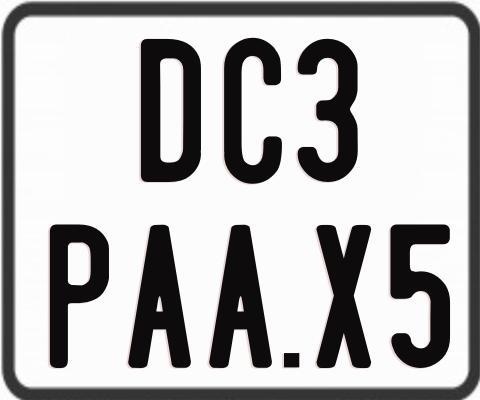3: (298, 38, 364, 186)
5: (389, 221, 450, 371)
A: (206, 223, 274, 366), (126, 225, 192, 372)
C: (222, 37, 286, 186)
D: (139, 37, 201, 182)
P: (49, 223, 111, 369)
X: (315, 223, 372, 367)
